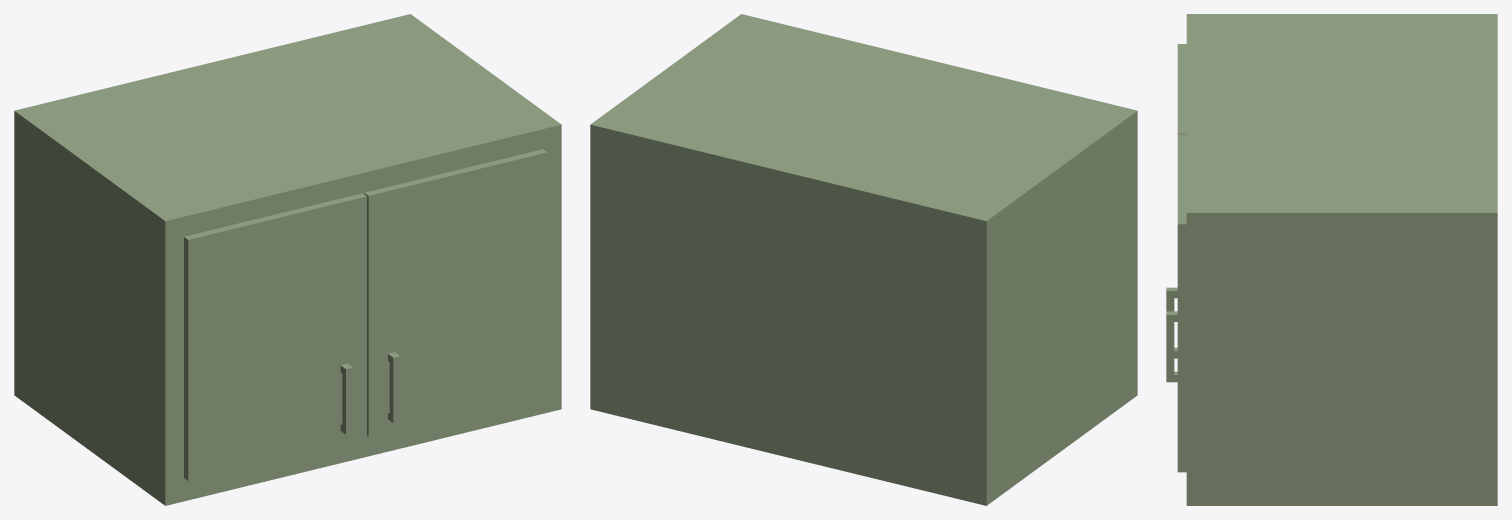
File: KitchenCounter_01_Top.fbx
The picture shows the model from 3 angles, left to right: view 1: azimuth 30°, elevation 25°; view 2: azimuth 150°, elevation 25°; view 3: azimuth 270°, elevation 25°; orthographic projection. The views are drawn at different scales.
Parts seen in each view (by area): view 1: KitchenCounter_01_Top, KitchenCounter_01_Top_Door_L, KitchenCounter_01_Top_Door_R; view 2: KitchenCounter_01_Top; view 3: KitchenCounter_01_Top, KitchenCounter_01_Top_Door_R, KitchenCounter_01_Top_Door_L.
Boxes of the visible parts, <box> form: KitchenCounter_01_Top: <box>14,14,561,505</box>; KitchenCounter_01_Top_Door_L: <box>184,193,366,480</box>; KitchenCounter_01_Top_Door_R: <box>364,149,547,436</box>; KitchenCounter_01_Top: <box>590,14,1137,505</box>; KitchenCounter_01_Top: <box>1186,14,1497,505</box>; KitchenCounter_01_Top_Door_R: <box>1166,134,1186,472</box>; KitchenCounter_01_Top_Door_L: <box>1166,44,1186,358</box>.
Bounding box in the file's own units: 1 × 0.6866 × 0.7037.
